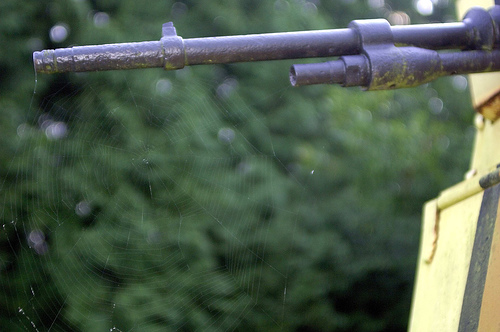rifle: (29, 6, 498, 104)
